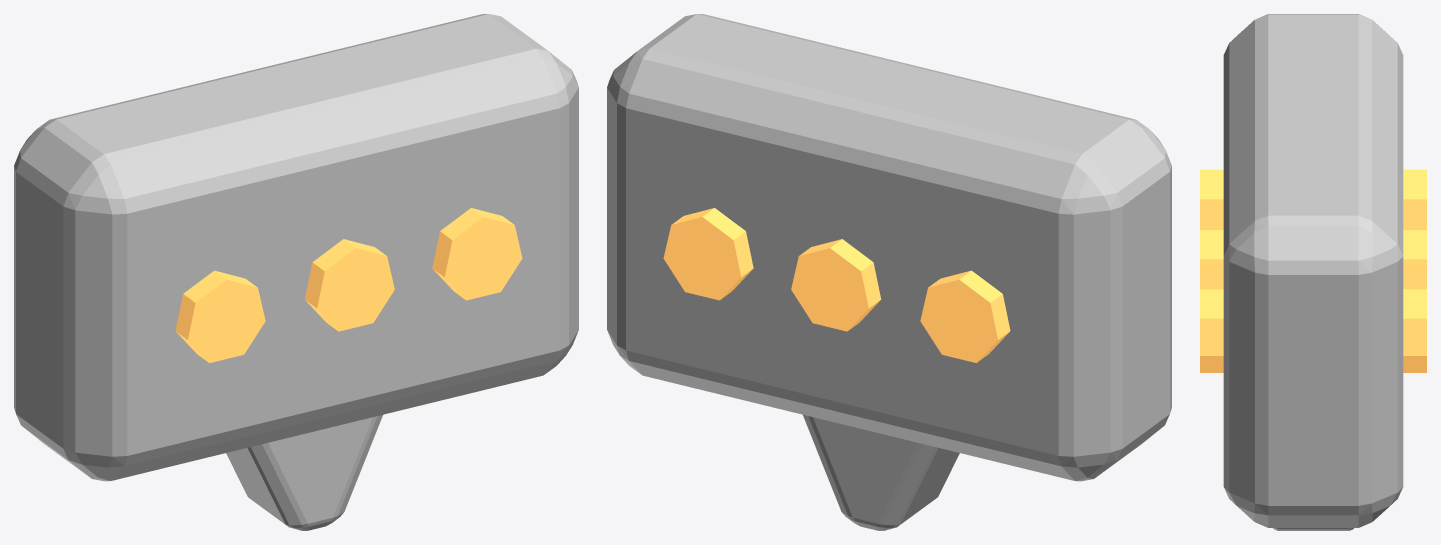
The model's file is STR_3D_bubble.dae.
3 views of the same model, side by side, from view 1: azimuth 30°, elevation 25°; view 2: azimuth 150°, elevation 25°; view 3: azimuth 270°, elevation 25° (orthographic). The views are drawn at different scales.
Parts seen in each view (by area): view 1: Cube, Cylinder, Cylinder.002, Cylinder.001; view 2: Cube, Cylinder, Cylinder.002, Cylinder.001; view 3: Cube, Cylinder.001, Cylinder.002, Cylinder.
Part boxes in pixels (<box>): Cube: <box>14,14,578,530</box>; Cylinder: <box>304,239,394,331</box>; Cylinder.002: <box>175,270,265,362</box>; Cylinder.001: <box>432,208,522,300</box>; Cube: <box>607,14,1171,530</box>; Cylinder: <box>791,239,881,331</box>; Cylinder.002: <box>920,270,1010,362</box>; Cylinder.001: <box>663,208,753,300</box>; Cube: <box>1223,14,1403,530</box>; Cylinder.001: <box>1200,289,1426,372</box>; Cylinder.002: <box>1200,169,1426,229</box>; Cylinder: <box>1200,230,1426,289</box>.
Bounding box in the file's own units: 1.45 × 0.5809 × 1.16.
